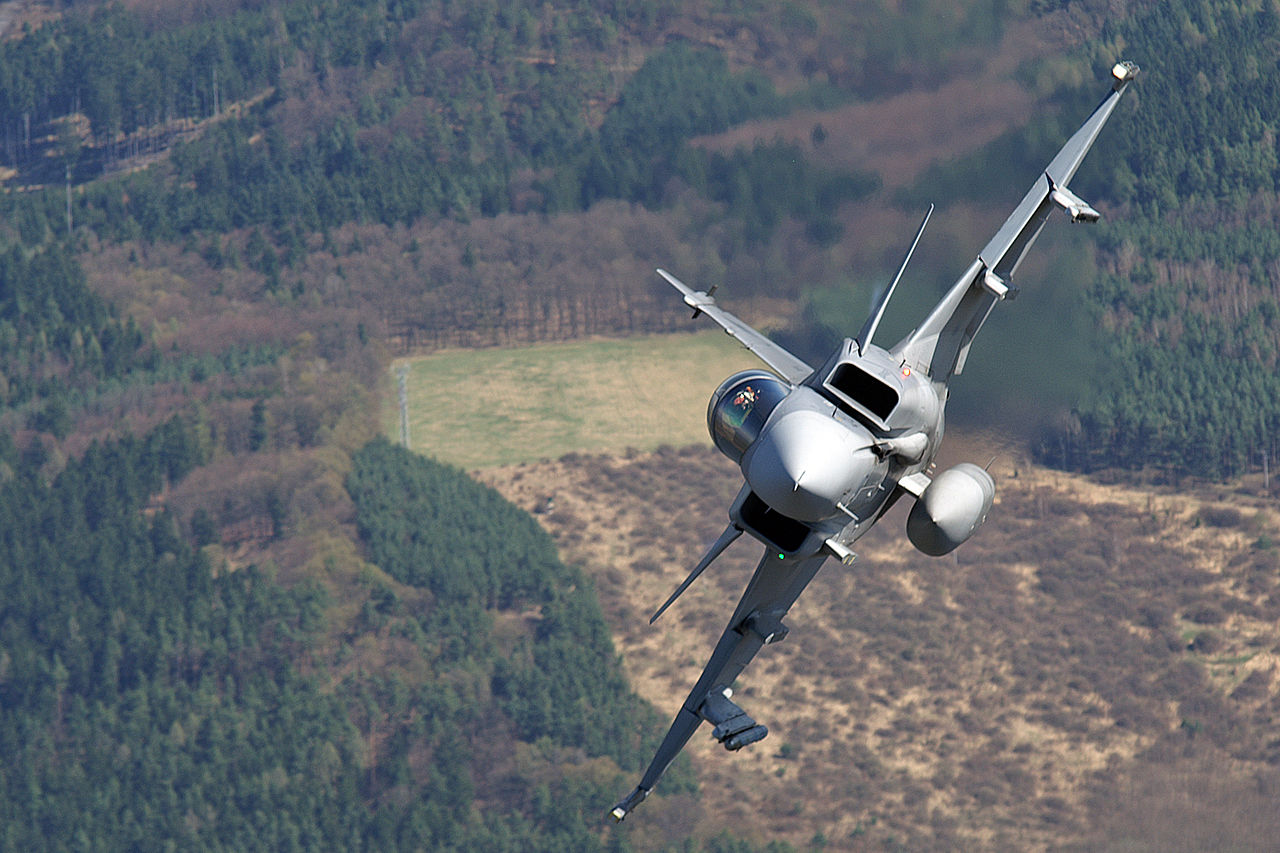JAS39: (611, 57, 1142, 823)
